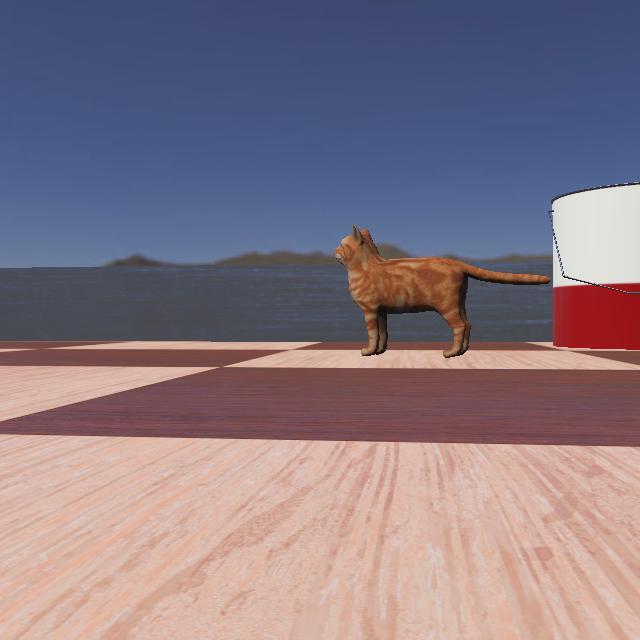cat: (330, 214, 552, 358), (330, 214, 552, 358)
paint-bucket: (516, 177, 640, 351)
